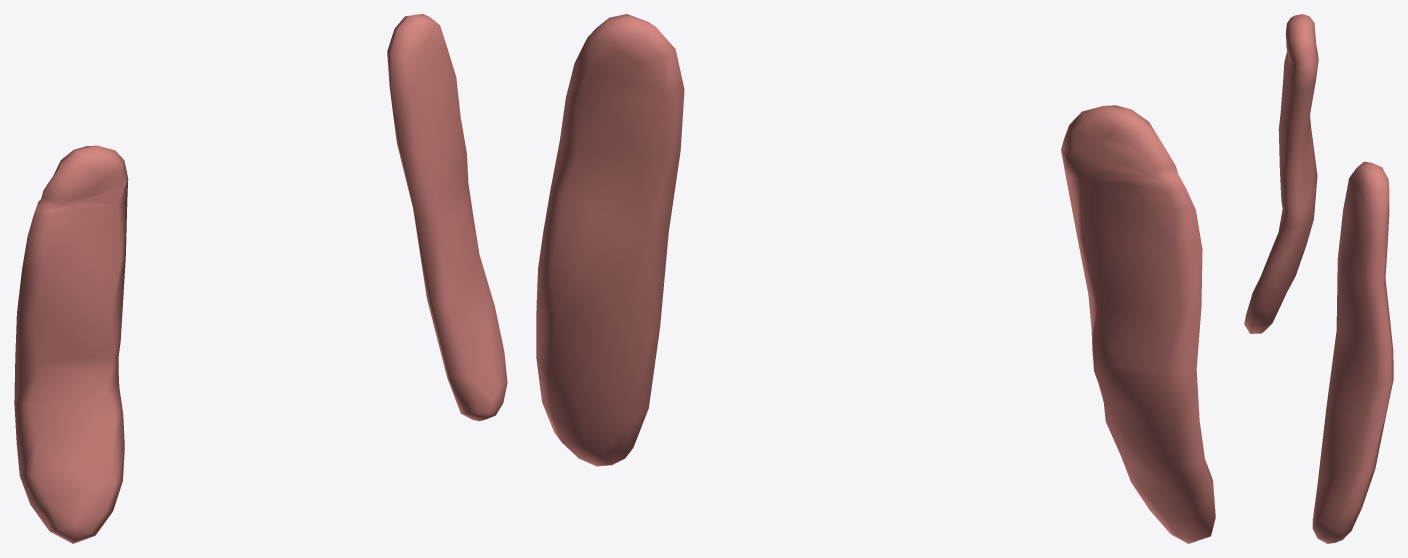
3 views of the same model, side by side, from view 1: azimuth 30°, elevation 25°; view 2: azimuth 150°, elevation 25°; view 3: azimuth 270°, elevation 25° (orthographic). The views are drawn at different scales.
Parts seen in each view (by area): view 1: ZA_2d53f70eea8d526b; view 2: ZA_2d53f70eea8d526b; view 3: ZA_2d53f70eea8d526b.
Part boxes in pixels (x1,y1,x2,y2): ZA_2d53f70eea8d526b: (14, 14, 507, 543); ZA_2d53f70eea8d526b: (536, 14, 1215, 543); ZA_2d53f70eea8d526b: (1244, 14, 1393, 543).
Size of the model in its own units: 0.00847 by 0.00622 by 0.00236.
